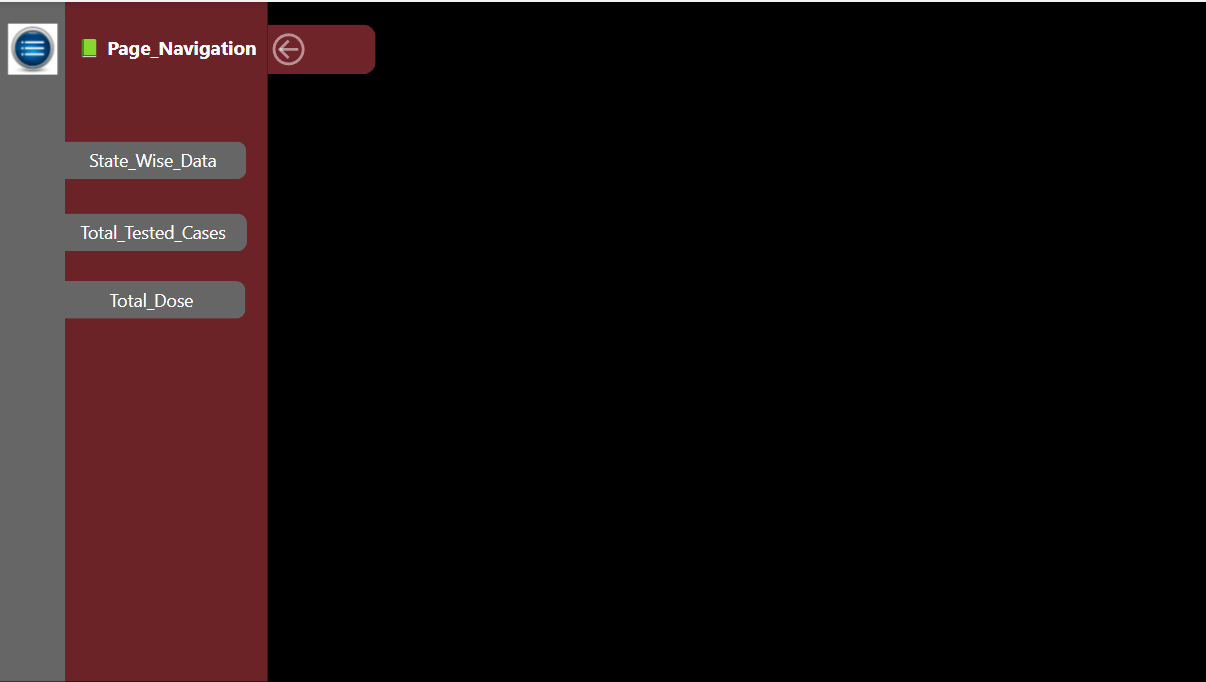

What the dashboard file says about the page in this screenshot:
{"tool":"powerbi","page":{"name":"Index","canvas":[1280,720],"ordinal":0},"visuals":[{"type":"shape","box":[0,0,69.9,720],"z":0,"group":"g1"},{"type":"actionButton","title":"Navigation Page","box":[69.9,0,214.6,720],"z":0,"group":"g3"},{"type":"actionButton","title":"State_Wise_Data","box":[66.7,147.8,195.5,39.7],"z":0,"group":"g2"},{"type":"actionButton","title":"Open Button","box":[4.8,14.3,62,71.5],"z":1000,"group":"g1"},{"type":"actionButton","title":"Back Button","box":[284.5,23.8,114.4,52.5],"z":1000,"group":"g3"},{"type":"actionButton","title":"Total_Dose","box":[65.7,295.7,195.7,40],"z":1000,"group":"g2"},{"type":"group","id":"g1","title":"Menu Bar","box":[0,0,69.9,720],"z":2000},{"type":"actionButton","title":"Total_Tested_Cases","box":[67.1,224.3,195.7,40],"z":2000,"group":"g2"},{"type":"group","id":"g2","title":"Pages","box":[65.7,147.8,197.1,187.9],"z":3000,"group":"g3"},{"type":"group","id":"g3","title":"Menu Page","box":[65.7,0,333.2,720],"z":3001}]}

Visuals, with their boxes on the page's 1280x720 design canvas (x1, y1, x2, y2). These are canvas units, not pixel positions in the 1206x682 screenshot, which may show the page scaled, cropped or inside an application window:
shape: 0/0/70/720
"Navigation Page" actionButton: 70/0/284/720
"State_Wise_Data" actionButton: 67/148/262/188
"Open Button" actionButton: 5/14/67/86
"Back Button" actionButton: 284/24/399/76
"Total_Dose" actionButton: 66/296/261/336
"Menu Bar" group: 0/0/70/720
"Total_Tested_Cases" actionButton: 67/224/263/264
"Pages" group: 66/148/263/336
"Menu Page" group: 66/0/399/720
